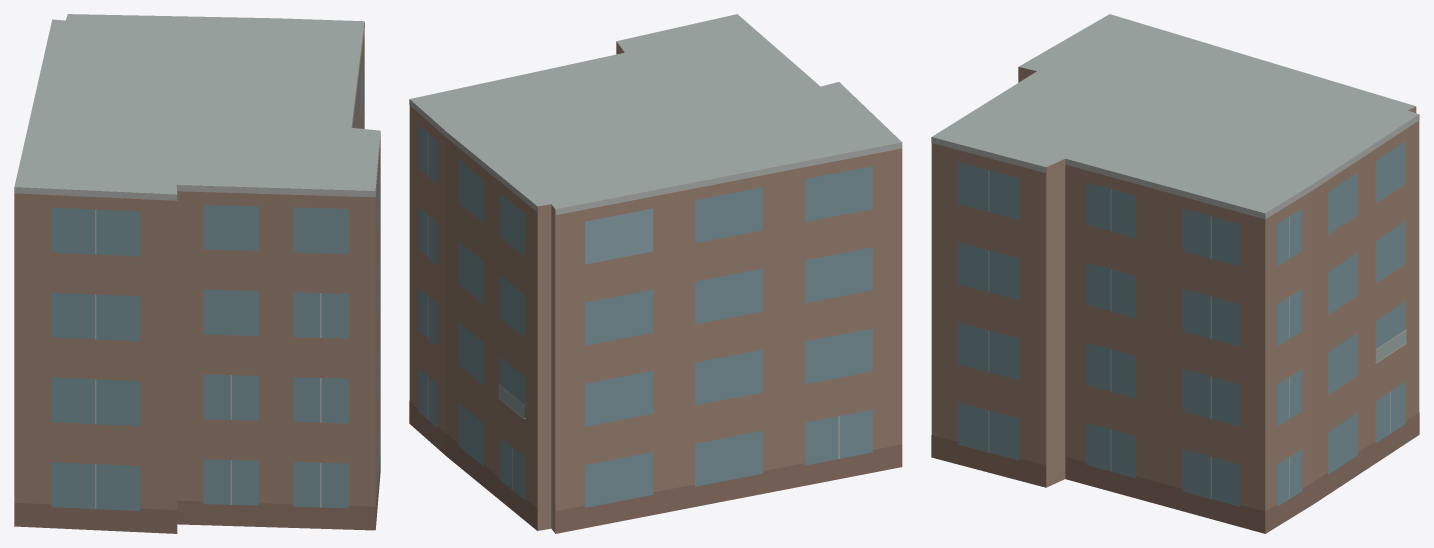
The model's file is survey-upis-32628575.glb.
The picture shows the model from 3 angles, left to right: view 1: azimuth 30°, elevation 25°; view 2: azimuth 150°, elevation 25°; view 3: azimuth 270°, elevation 25°; orthographic projection. The views are drawn at different scales.
Visible parts, largest first — view 1: survey-upis-32628575.tmp; view 2: survey-upis-32628575.tmp; view 3: survey-upis-32628575.tmp.
Boxes of the visible parts, box(x1,y1,x2,y2) form: survey-upis-32628575.tmp: box(14, 14, 380, 533); survey-upis-32628575.tmp: box(409, 14, 902, 533); survey-upis-32628575.tmp: box(931, 14, 1419, 533).
Size of the model in its own units: 17.63 by 13.2 by 18.22.
